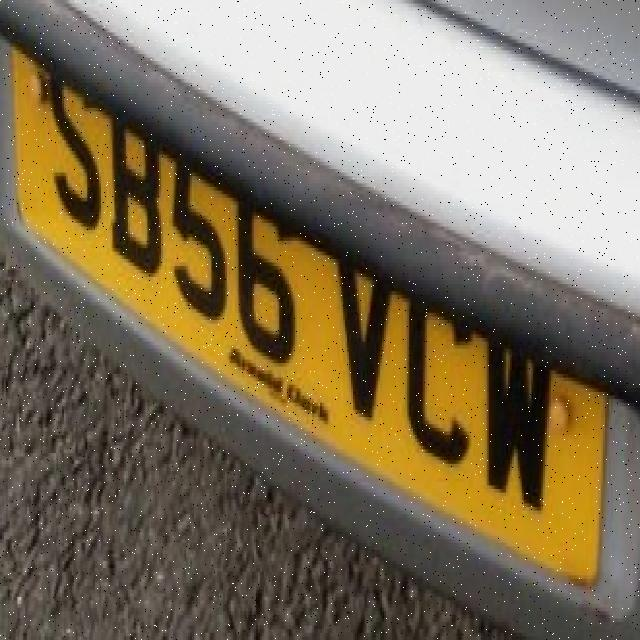licenseplate: (14, 33, 583, 533)
